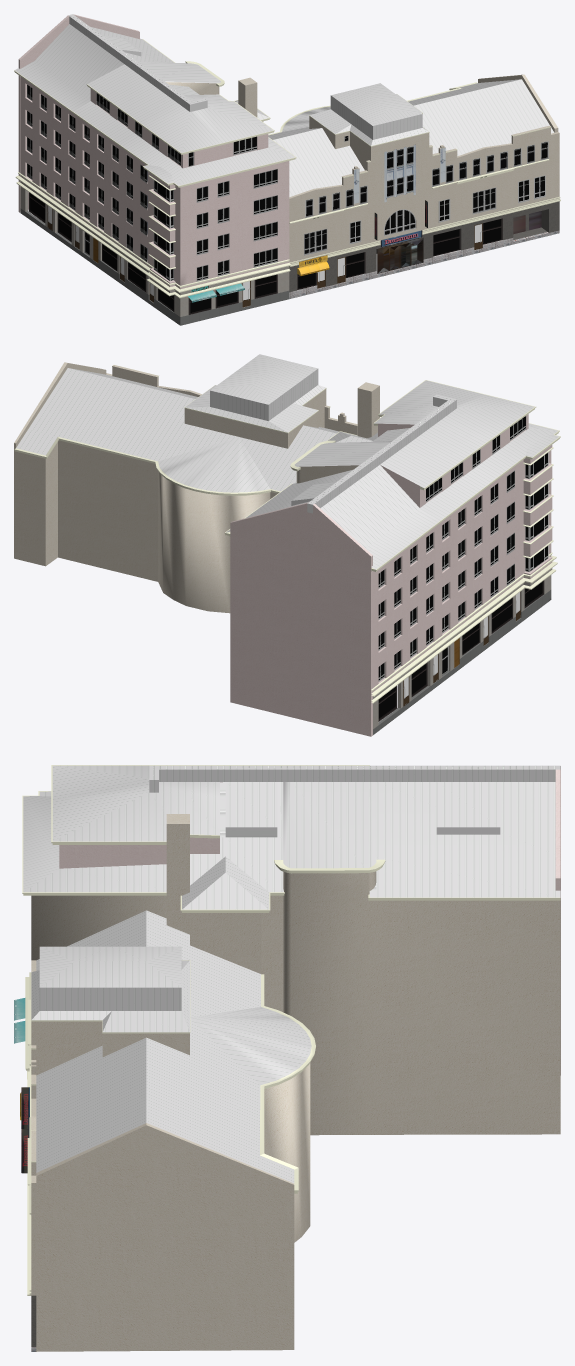
Rendered from Kirkkokatu_19.fbx.
3 renders of one model, top to bottom at view 1: azimuth 30°, elevation 25°; view 2: azimuth 150°, elevation 25°; view 3: azimuth 270°, elevation 25°, orthographic. The views are drawn at different scales.
Parts seen in each view (by area): view 1: Kirkkokatu_19; view 2: Kirkkokatu_19; view 3: Kirkkokatu_19.
Part boxes in pixels (bbox=[...]): Kirkkokatu_19: bbox=[14, 14, 560, 325]; Kirkkokatu_19: bbox=[14, 354, 560, 736]; Kirkkokatu_19: bbox=[14, 765, 560, 1351].
Size of the model in its own units: 4779 by 3442 by 2168.
